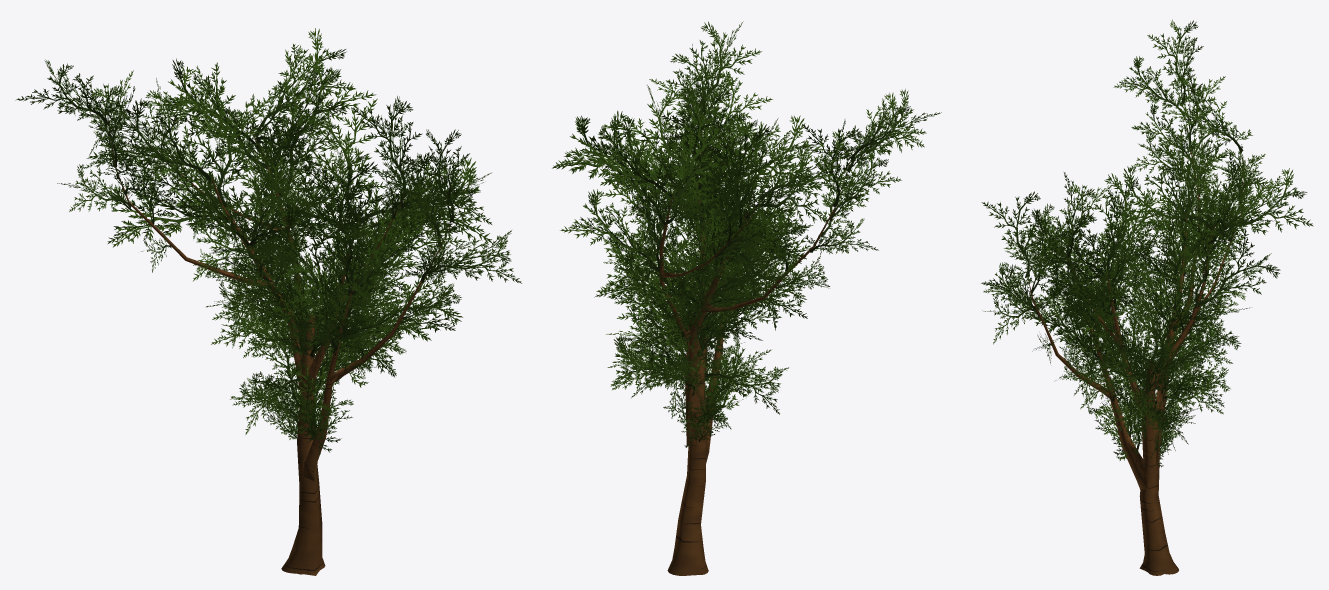
Rendered from tree.obj.
3 renders of one model, left to right at view 1: azimuth 30°, elevation 25°; view 2: azimuth 150°, elevation 25°; view 3: azimuth 270°, elevation 25°, orthographic. The views are drawn at different scales.
Visible parts, largest first — view 1: tree02; view 2: tree02; view 3: tree02.
Boxes of the visible parts, x1=… form: tree02: x1=15, y1=28, x2=521, y2=575; tree02: x1=552, y1=21, x2=941, y2=575; tree02: x1=981, y1=19, x2=1313, y2=575.
Bounding box in the file's own units: 2.86 × 3.81 × 2.56.
Materials: 2 (2 with a texture image).
